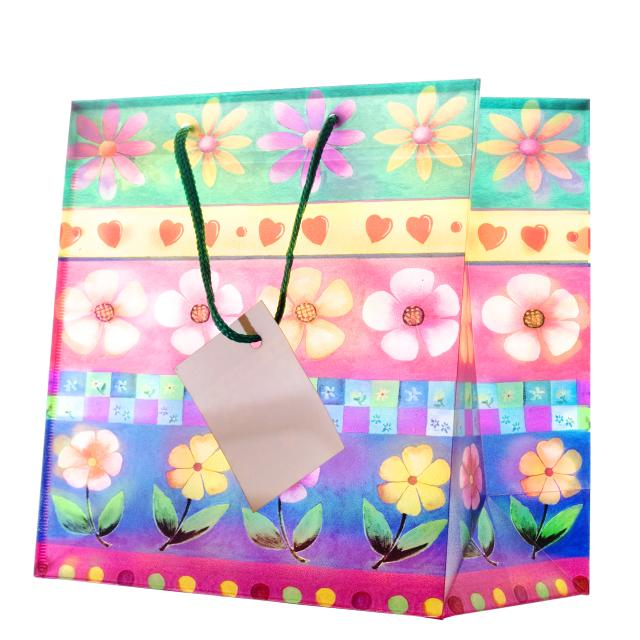paper: (85, 79, 567, 608)
